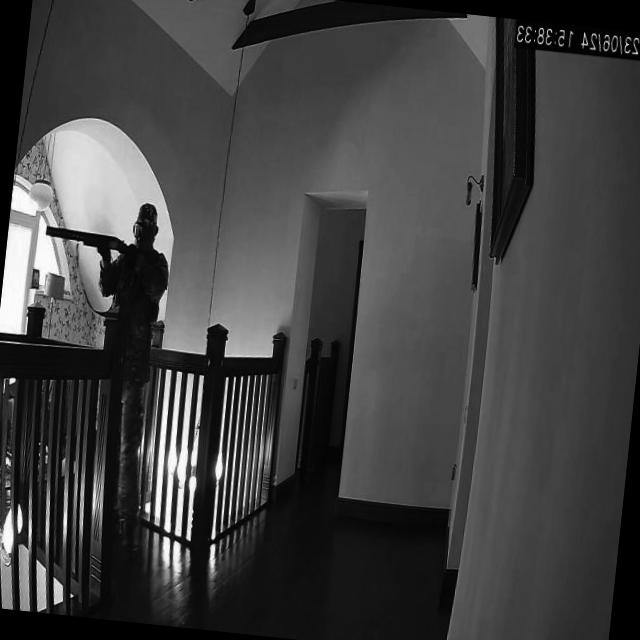gun: (43, 227, 134, 254)
person with a gun: (13, 192, 175, 550)
